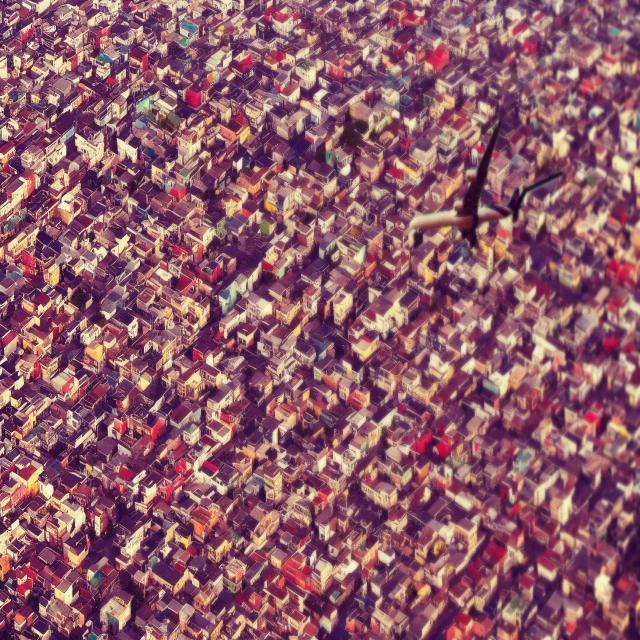airplane: (405, 118, 562, 250)
